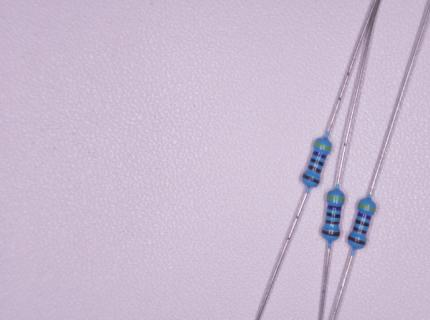Black band: (356, 219, 370, 227), (310, 158, 324, 166), (326, 212, 341, 218)
Brown band: (349, 236, 366, 245), (303, 175, 319, 184), (308, 165, 322, 174), (322, 230, 340, 237), (353, 226, 367, 234), (326, 220, 339, 225)
Violet band: (313, 151, 327, 159), (358, 213, 372, 220), (328, 205, 342, 211)
Yellow band: (314, 141, 331, 150), (359, 203, 376, 211), (329, 196, 344, 201)
